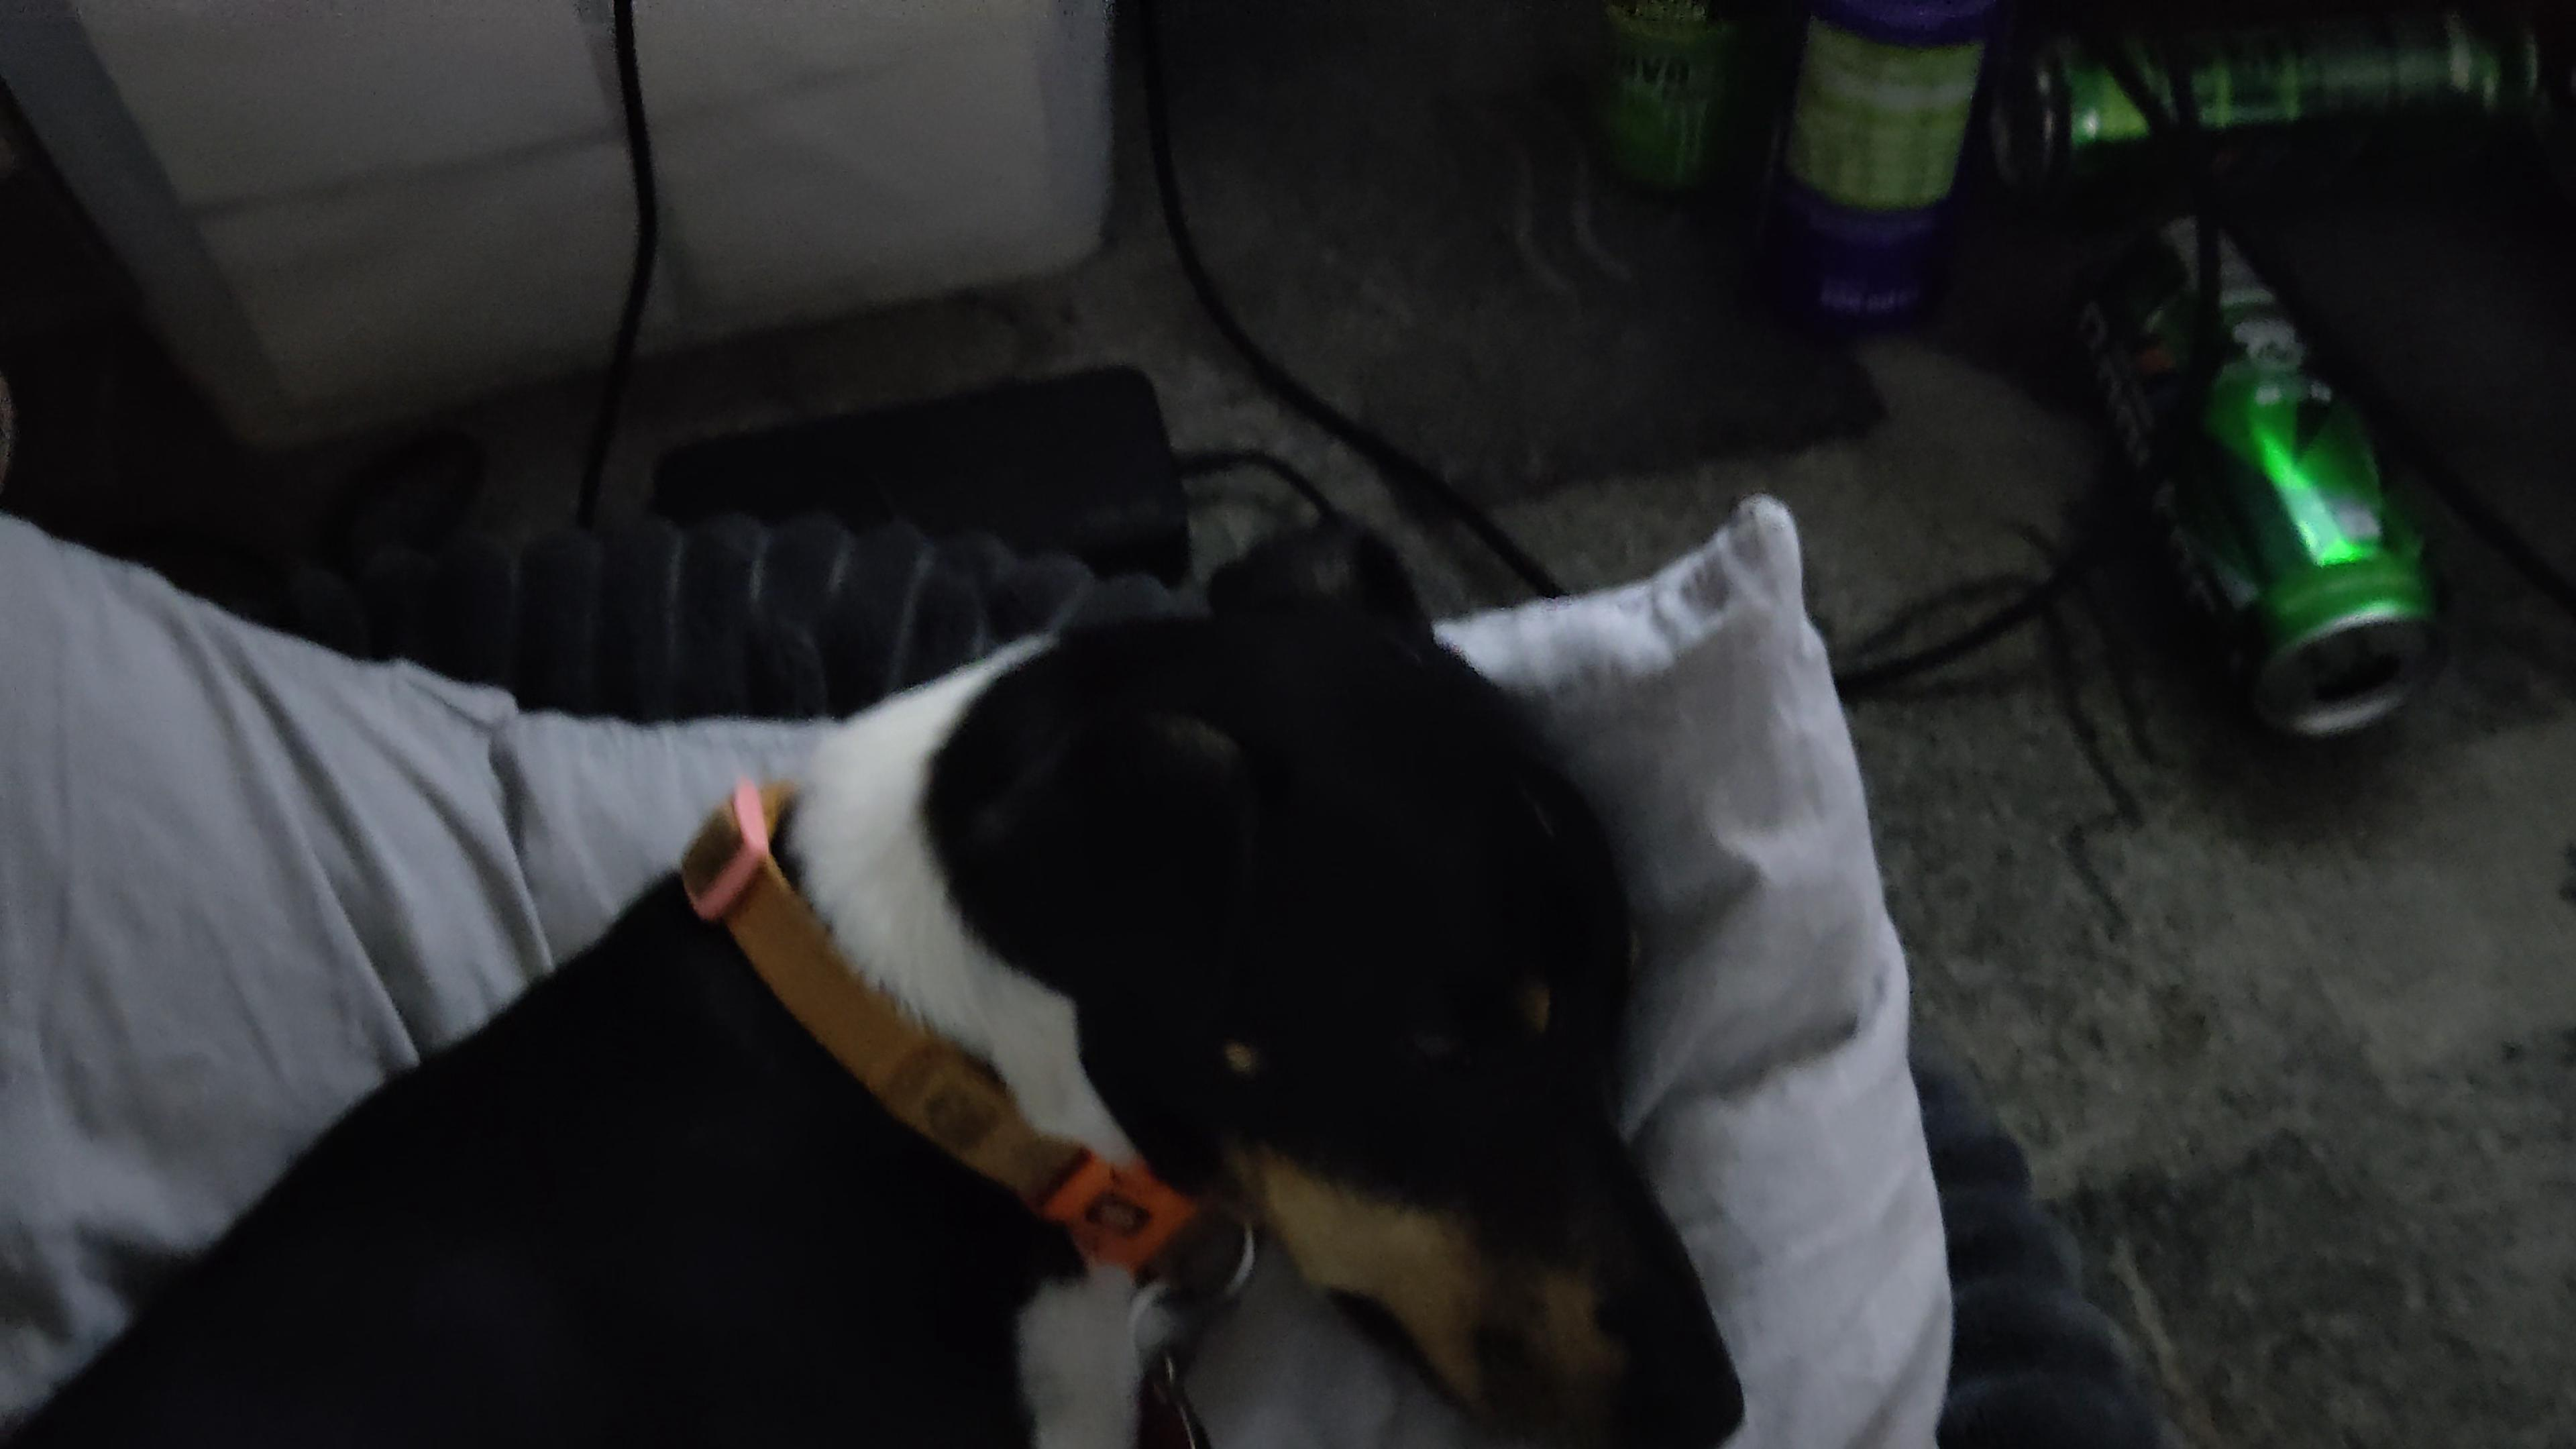Dog: (0, 499, 1773, 1449)
